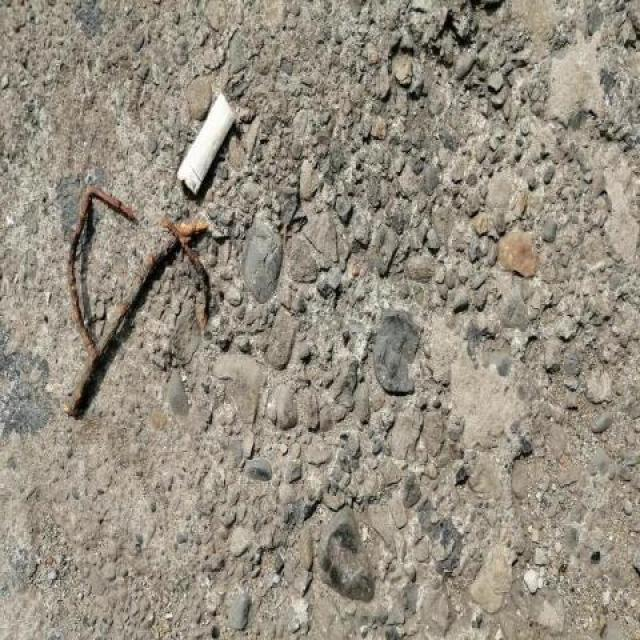non-organic waste: (170, 86, 241, 201)
